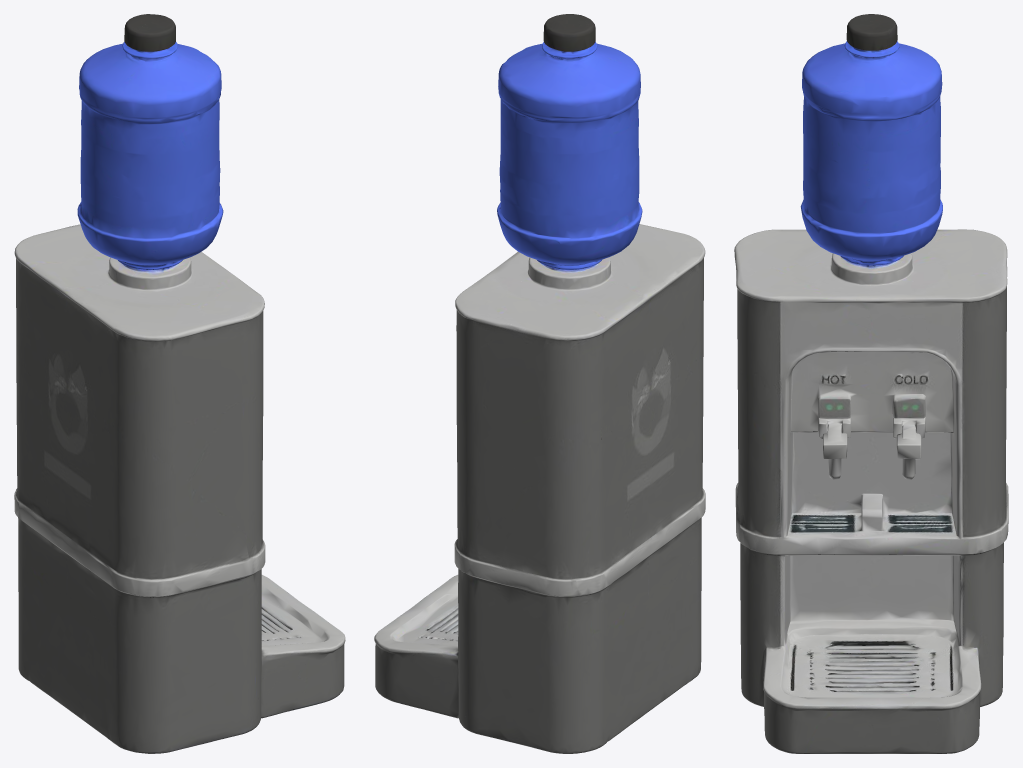
File: water.glb
The picture shows the model from 3 angles, left to right: view 1: azimuth 30°, elevation 25°; view 2: azimuth 150°, elevation 25°; view 3: azimuth 270°, elevation 25°; orthographic projection.
Parts seen in each view (by area): view 1: tripo_node_95259626-8f67-4897-a393-fc3cefe846be; view 2: tripo_node_95259626-8f67-4897-a393-fc3cefe846be; view 3: tripo_node_95259626-8f67-4897-a393-fc3cefe846be.
Part boxes in pixels (left/top/right/bottom): tripo_node_95259626-8f67-4897-a393-fc3cefe846be: left=14, top=14, right=345, bottom=753; tripo_node_95259626-8f67-4897-a393-fc3cefe846be: left=374, top=14, right=705, bottom=753; tripo_node_95259626-8f67-4897-a393-fc3cefe846be: left=734, top=14, right=1008, bottom=753.
Size of the model in its own units: 0.3738 by 1 by 0.3776.
1 material, 1 textured.
